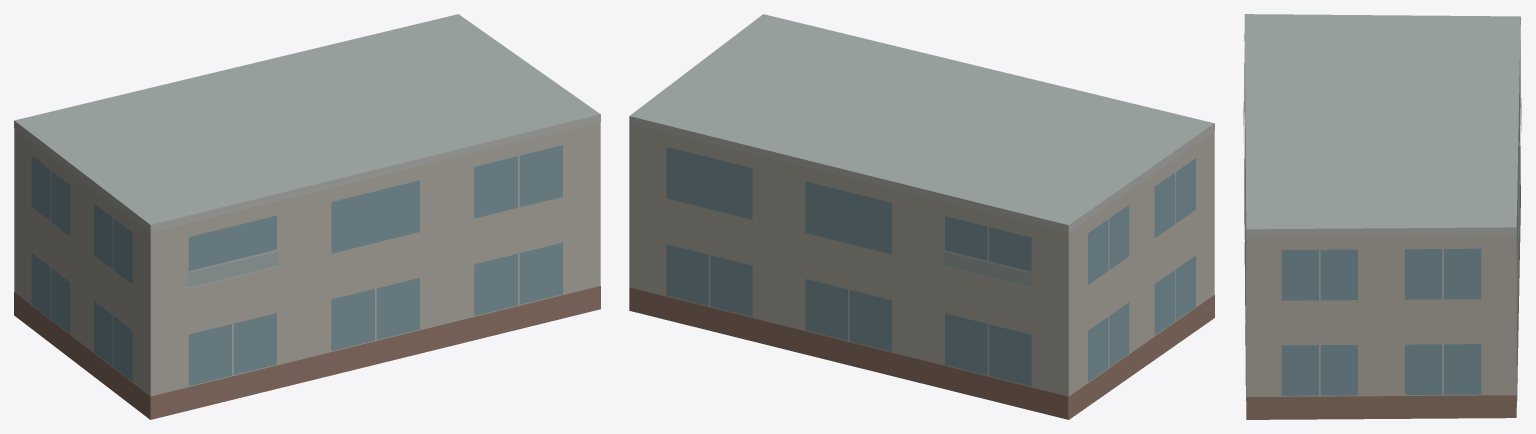
File: survey-upis-32821189.glb
The picture shows the model from 3 angles, left to right: view 1: azimuth 30°, elevation 25°; view 2: azimuth 150°, elevation 25°; view 3: azimuth 270°, elevation 25°; orthographic projection. The views are drawn at different scales.
Parts seen in each view (by area): view 1: survey-upis-32821189.tmp; view 2: survey-upis-32821189.tmp; view 3: survey-upis-32821189.tmp.
Boxes of the visible parts, x1=… form: survey-upis-32821189.tmp: x1=14, y1=14, x2=600, y2=419; survey-upis-32821189.tmp: x1=629, y1=14, x2=1214, y2=419; survey-upis-32821189.tmp: x1=1243, y1=14, x2=1521, y2=419.
Size of the model in its own units: 14.79 by 6.1 by 8.08.
